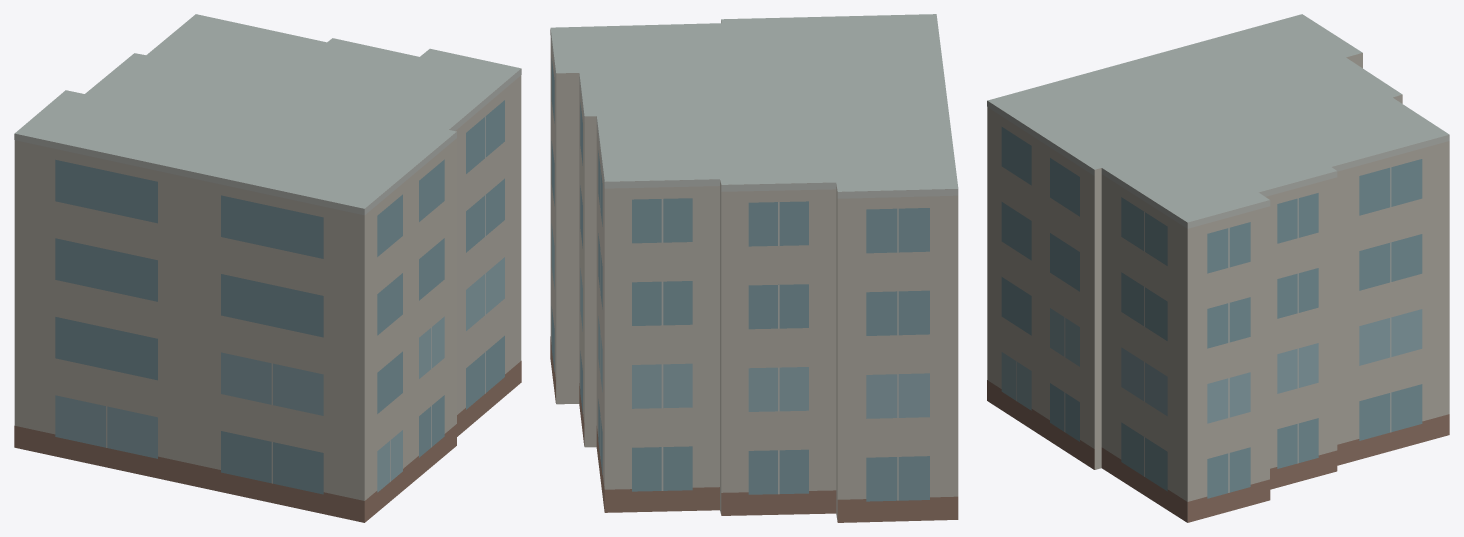
The model's file is survey-upis-32681838.glb.
3 renders of one model, left to right at view 1: azimuth 30°, elevation 25°; view 2: azimuth 150°, elevation 25°; view 3: azimuth 270°, elevation 25°, orthographic. The views are drawn at different scales.
Parts seen in each view (by area): view 1: survey-upis-32681838.tmp; view 2: survey-upis-32681838.tmp; view 3: survey-upis-32681838.tmp.
Part boxes in pixels (x1,y1,x2,y2): survey-upis-32681838.tmp: (14, 14, 521, 522); survey-upis-32681838.tmp: (550, 14, 958, 522); survey-upis-32681838.tmp: (987, 14, 1449, 522).
Bounding box in the file's own units: 17.44 × 11.7 × 16.34.
